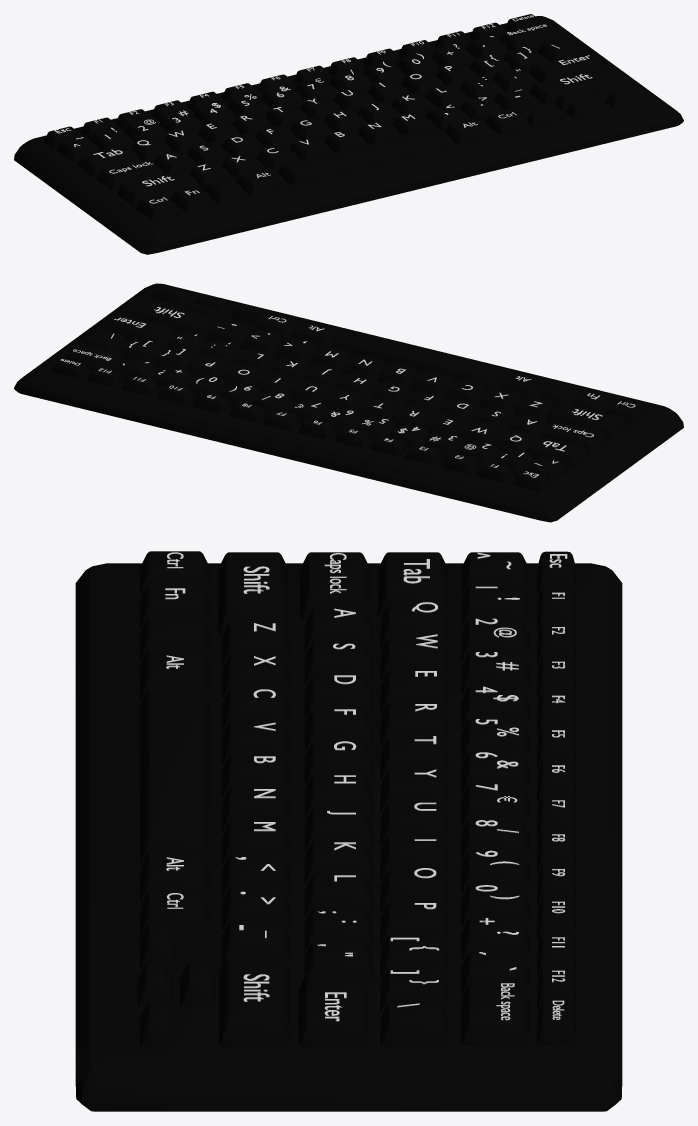
The model's file is KeyboardV2.fbx.
The picture shows the model from 3 angles, top to bottom: view 1: azimuth 30°, elevation 25°; view 2: azimuth 150°, elevation 25°; view 3: azimuth 270°, elevation 25°; orthographic projection. The views are drawn at different scales.
Parts seen in each view (by area): view 1: Keyboard; view 2: Keyboard; view 3: Keyboard.
Boxes of the visible parts, left/top/right/bottom form: Keyboard: left=14, top=14, right=683, bottom=254; Keyboard: left=14, top=283, right=683, bottom=522; Keyboard: left=75, top=551, right=622, bottom=1111.
Size of the model in its own units: 489 by 26.92 by 213.
